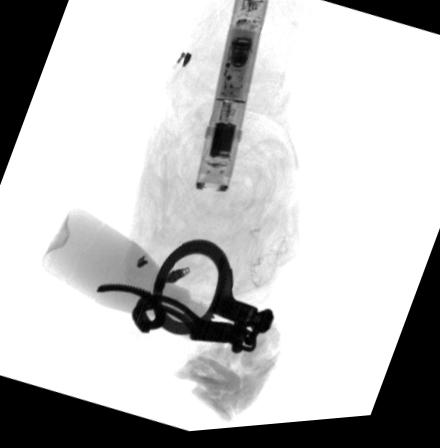Baton: (194, 0, 270, 197)
HandCuffs: (95, 241, 277, 358)
